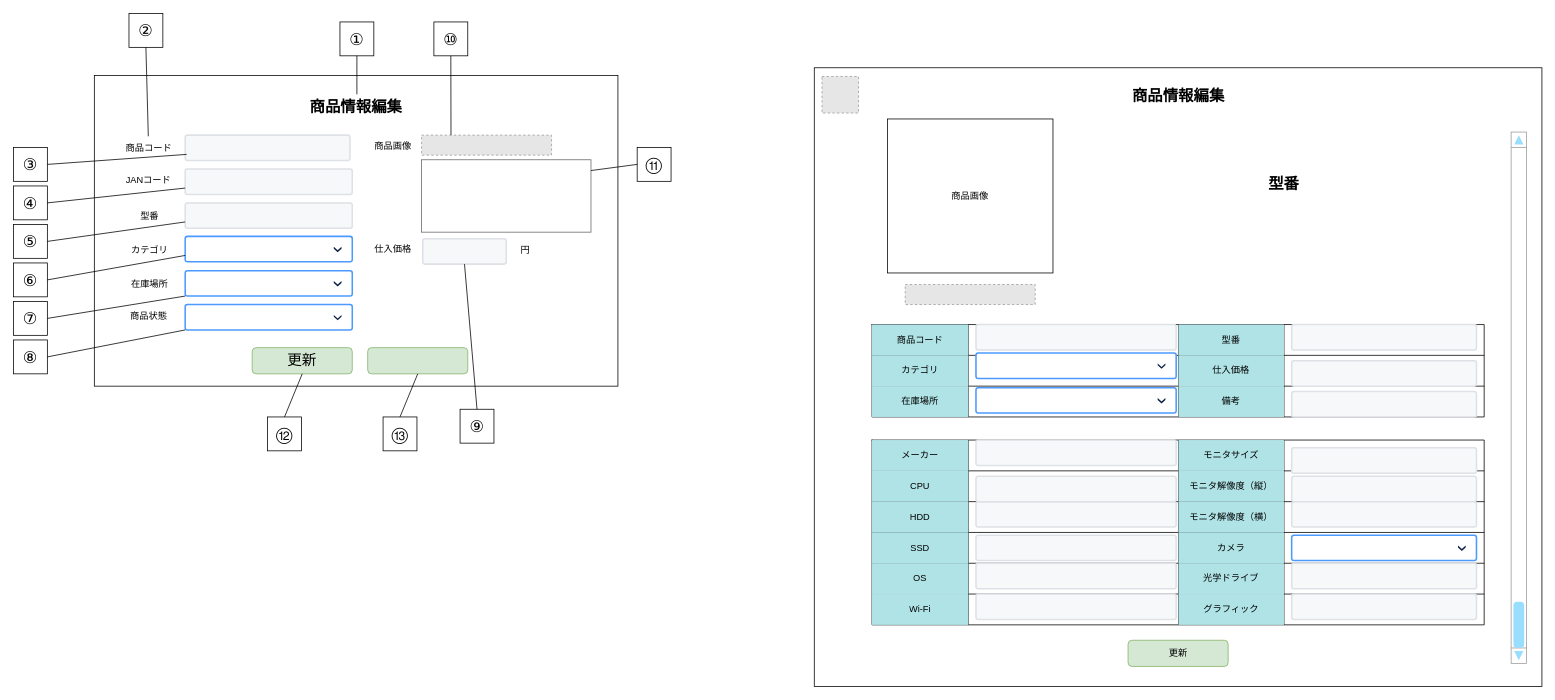
This 1555x700 diagram has some shape labels left out. Grey dashed boxes stand in for pictures. The shapes that lost their labels are listed below. From the top down, each one's centre as x and y in pixels, then its label:
(506,195): 画像
(417,360): 削除
